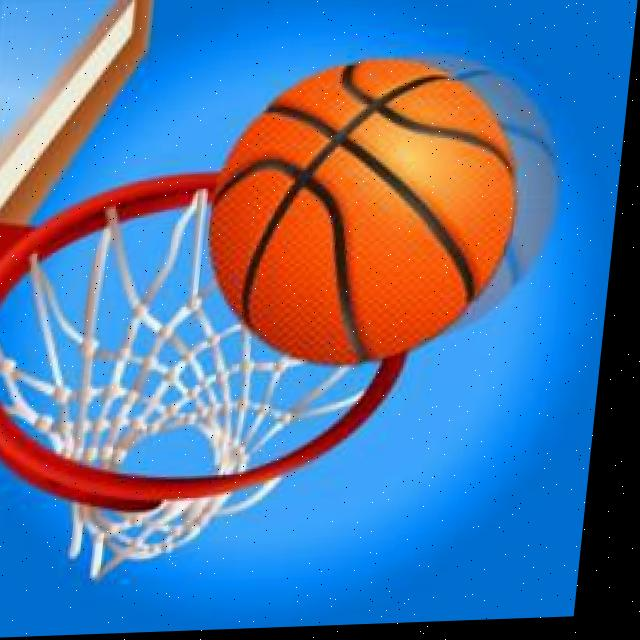basketball: (197, 54, 532, 370)
hoop: (0, 163, 430, 585)
